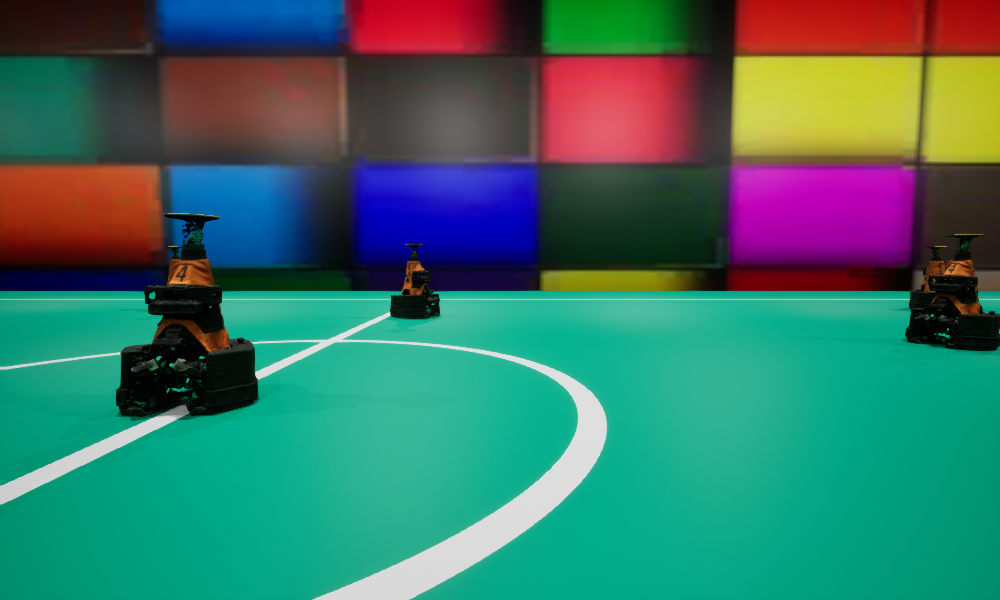0 orange robot TechUnited: (116, 213, 257, 415), (905, 234, 999, 349), (390, 244, 439, 318), (909, 246, 946, 308), (164, 246, 185, 295)
